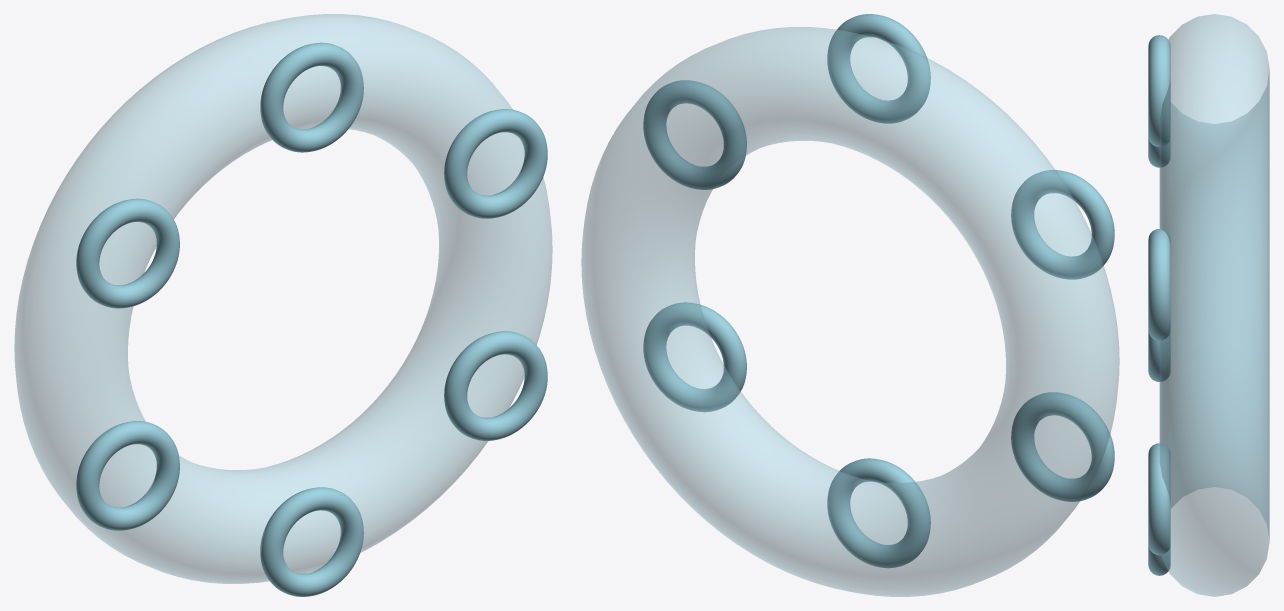
The picture shows the model from 3 angles, left to right: view 1: azimuth 30°, elevation 25°; view 2: azimuth 150°, elevation 25°; view 3: azimuth 270°, elevation 25°; orthographic projection. The views are drawn at different scales.
Visible parts, largest first — view 1: ring-dock, socket-4, socket-5, socket-0, socket-2, socket-1, socket-3; view 2: ring-dock, socket-5, socket-0, socket-4, socket-2, socket-1, socket-3; view 3: ring-dock, socket-2, socket-0, socket-1, socket-4, socket-5, socket-3.
Boxes of the visible parts, box(x1,y1,x2,y2) form: ring-dock: box(14, 14, 552, 583); socket-4: box(76, 421, 179, 530); socket-5: box(76, 198, 179, 308); socket-0: box(260, 42, 363, 152); socket-2: box(444, 331, 547, 440); socket-1: box(444, 109, 547, 218); socket-3: box(260, 487, 363, 596); ring-dock: box(581, 27, 1119, 596); socket-5: box(1011, 170, 1114, 279); socket-0: box(827, 14, 930, 123); socket-4: box(1011, 392, 1114, 501); socket-2: box(643, 302, 746, 412); socket-1: box(643, 80, 746, 189); socket-3: box(827, 458, 930, 568); ring-dock: box(1159, 14, 1269, 596); socket-2: box(1148, 443, 1170, 555); socket-0: box(1148, 35, 1170, 146); socket-1: box(1148, 229, 1170, 340); socket-4: box(1148, 331, 1170, 381); socket-5: box(1148, 137, 1170, 167); socket-3: box(1148, 545, 1170, 575).
Size of the model in its own units: 2.86 by 2.87 by 0.595.
